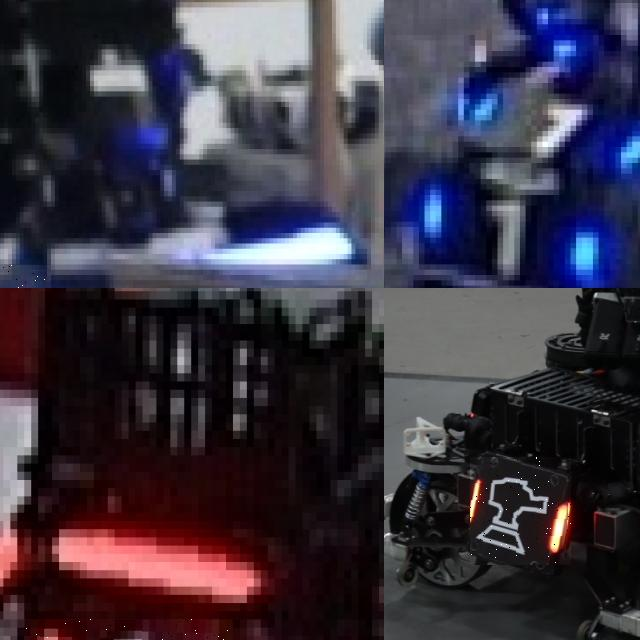B1: (413, 168, 615, 288), (458, 88, 640, 173)
Rs: (470, 457, 571, 565)
